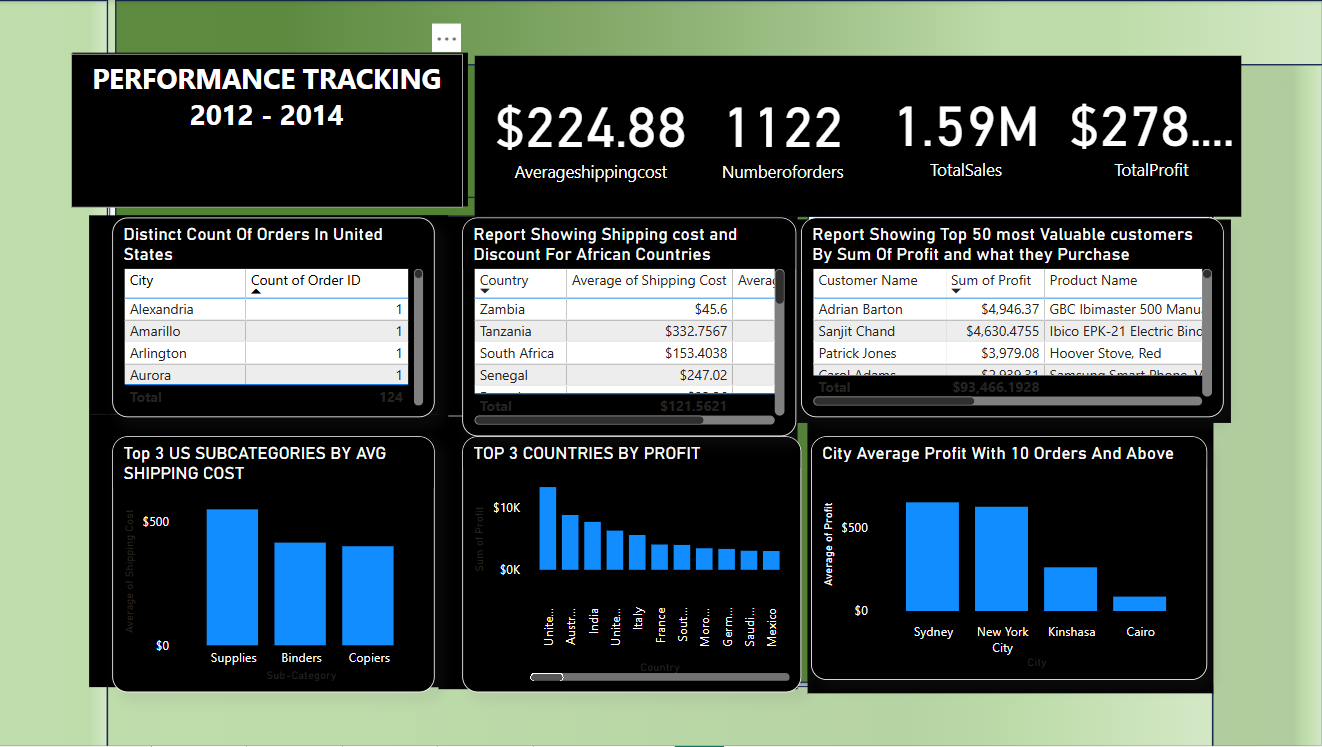

The dashboard page shown, as its layout file describes it:
{"tool":"powerbi","page":{"name":"DASHBOARD","canvas":[1280,720],"ordinal":4},"visuals":[{"type":"card","title":"TOTAL SALES","fields":{"Values":["GlobalSuperstore - Capstone - Orders.TotalSales"]},"box":[851.7,60.3,168.9,130.3],"z":1000},{"type":"card","title":"TOTAL PROFIT","fields":{"Values":["GlobalSuperstore - Capstone - Orders.TotalProfit"]},"box":[1030.3,60.3,170.1,130.3],"z":2000},{"type":"card","title":"NUMBER OF ORDERS","fields":{"Values":["GlobalSuperstore - Capstone - Orders.Numberoforders"]},"box":[675.6,63.9,167.7,126.7],"z":3000},{"type":"card","title":"AVERAGE SHIPPING COST","fields":{"Values":["GlobalSuperstore - Capstone - Orders.Averageshippingcost"]},"box":[472.9,63.9,202.7,126.7],"z":4000},{"type":"columnChart","title":"TOP 3 COUNTRIES BY PROFIT","fields":{"Category":["GlobalSuperstore - Capstone - Orders.Country"],"Y":["GlobalSuperstore - Capstone - Orders.Profit"]},"box":[450,421,326.9,247.3],"z":6000},{"type":"columnChart","title":"Top 3 US SUBCATEGORIES BY AVG SHIPPING COST","fields":{"Category":["GlobalSuperstore - Capstone - Orders.Sub-Category"],"Y":["GlobalSuperstore - Capstone - Orders.Shipping Cost"]},"box":[112.2,421,311.3,247.3],"z":7000},{"type":"tableEx","title":"Report Showing Shipping cost and Discount For African Countries","fields":{"Values":["GlobalSuperstore - Capstone - Orders.Country","GlobalSuperstore - Capstone - Orders.Shipping Cost","GlobalSuperstore - Capstone - Orders.Discount"]},"box":[450,209.9,322.1,211.1],"z":8000},{"type":"columnChart","title":" City Average Profit With 10 Orders And Above","fields":{"Category":["GlobalSuperstore - Capstone - Orders.City"],"Y":["GlobalSuperstore - Capstone - Orders.Profit"]},"box":[786.6,421,382.4,235.3],"z":9000},{"type":"tableEx","title":"Distinct Count Of Orders In United States","fields":{"Values":["GlobalSuperstore - Capstone - Orders.City","GlobalSuperstore - Capstone - Orders.Order ID"]},"box":[112.2,209.9,311.3,193],"z":10000},{"type":"tableEx","title":"Report Showing Top 50 most Valuable customers By Sum Of Profit and what they Purchase","fields":{"Values":["GlobalSuperstore - Capstone - Orders.Customer Name","GlobalSuperstore - Capstone - Orders.Profit","GlobalSuperstore - Capstone - Orders.Product Name","GlobalSuperstore - Capstone - Orders.DistinctOrders","GlobalSuperstore - Capstone - Orders.Country"]},"box":[776.9,209.9,407.8,193],"z":11000},{"type":"textbox","box":[72.4,51.9,377.6,148.4],"z":12000}]}

Visuals, with their boxes in screenshot pixels (x1, y1, x2, y2), scaled from the page's 1280x720 canvas onto the 1322x747 screenshot:
"TOTAL SALES" card: {"left": 880, "top": 63, "right": 1054, "bottom": 198}
"TOTAL PROFIT" card: {"left": 1064, "top": 63, "right": 1240, "bottom": 198}
"NUMBER OF ORDERS" card: {"left": 698, "top": 66, "right": 871, "bottom": 198}
"AVERAGE SHIPPING COST" card: {"left": 488, "top": 66, "right": 698, "bottom": 198}
"TOP 3 COUNTRIES BY PROFIT" columnChart: {"left": 465, "top": 437, "right": 802, "bottom": 693}
"Top 3 US SUBCATEGORIES BY AVG SHIPPING COST" columnChart: {"left": 116, "top": 437, "right": 437, "bottom": 693}
"Report Showing Shipping cost and Discount For African Countries" tableEx: {"left": 465, "top": 218, "right": 797, "bottom": 437}
" City Average Profit With 10 Orders And Above" columnChart: {"left": 812, "top": 437, "right": 1207, "bottom": 681}
"Distinct Count Of Orders In United States" tableEx: {"left": 116, "top": 218, "right": 437, "bottom": 418}
"Report Showing Top 50 most Valuable customers By Sum Of Profit and what they Purchase" tableEx: {"left": 802, "top": 218, "right": 1224, "bottom": 418}
textbox: {"left": 75, "top": 54, "right": 465, "bottom": 208}
